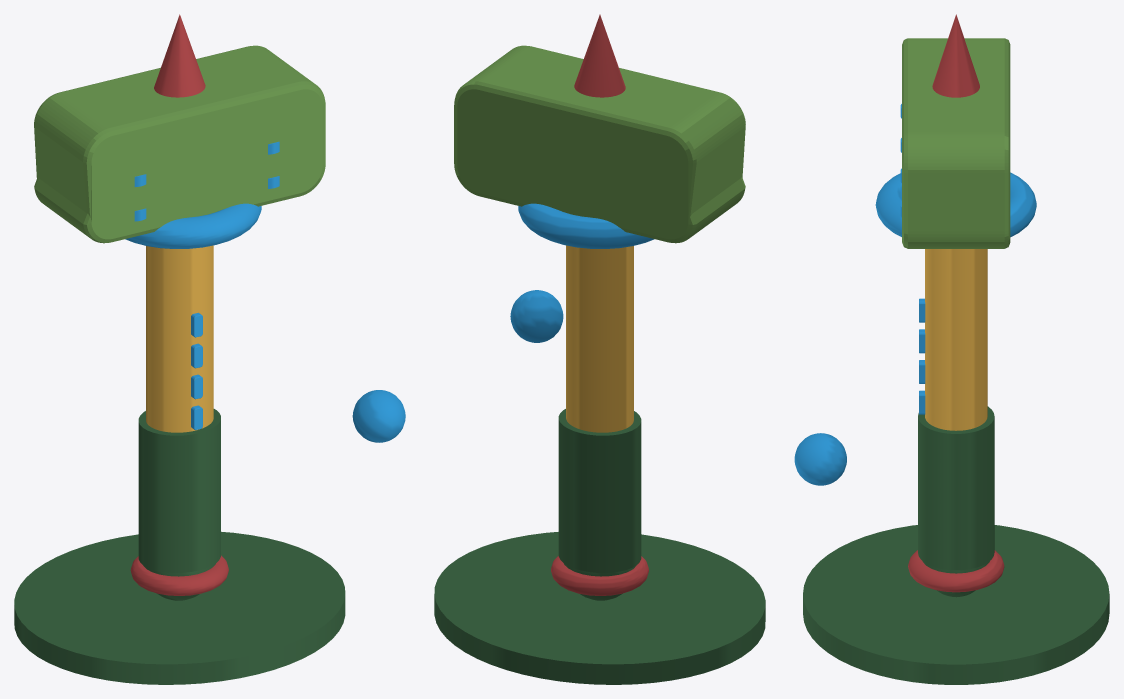
The model's file is 0573_伟大的发明图鉴_贝尔电话.glb.
The picture shows the model from 3 angles, left to right: view 1: azimuth 30°, elevation 25°; view 2: azimuth 150°, elevation 25°; view 3: azimuth 270°, elevation 25°; orthographic projection.
Parts seen in each view (by area): view 1: card_0573; view 2: card_0573; view 3: card_0573.
Boxes of the visible parts, <box> form: card_0573: <box>14,14,405,684</box>; card_0573: <box>434,14,765,684</box>; card_0573: <box>794,14,1109,684</box>.
Size of the model in its own units: 0.5206 by 1 by 0.4758.
